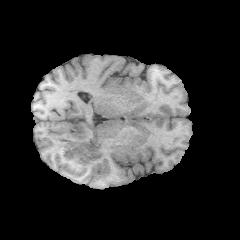glioma: (52, 136, 123, 176)
